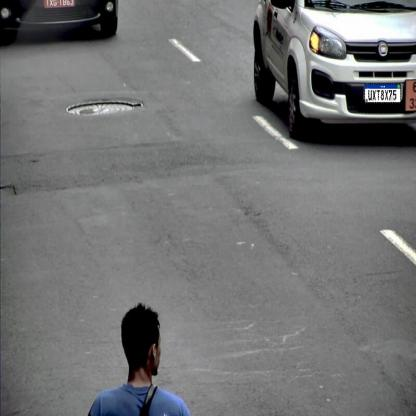PlacaM: (364, 84, 401, 104)
